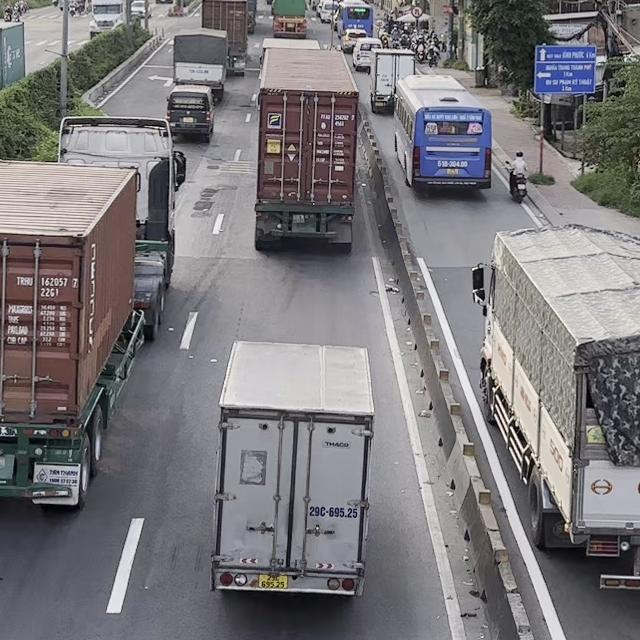bus: (388, 73, 492, 194), (336, 1, 373, 38)
car: (165, 85, 214, 142), (352, 37, 383, 72)
motorcycle: (503, 161, 528, 203)
truck: (0, 114, 188, 508), (471, 222, 639, 591), (209, 339, 375, 597), (253, 47, 360, 252), (172, 27, 230, 103), (200, 0, 249, 76), (369, 47, 416, 114), (270, 0, 308, 38)
